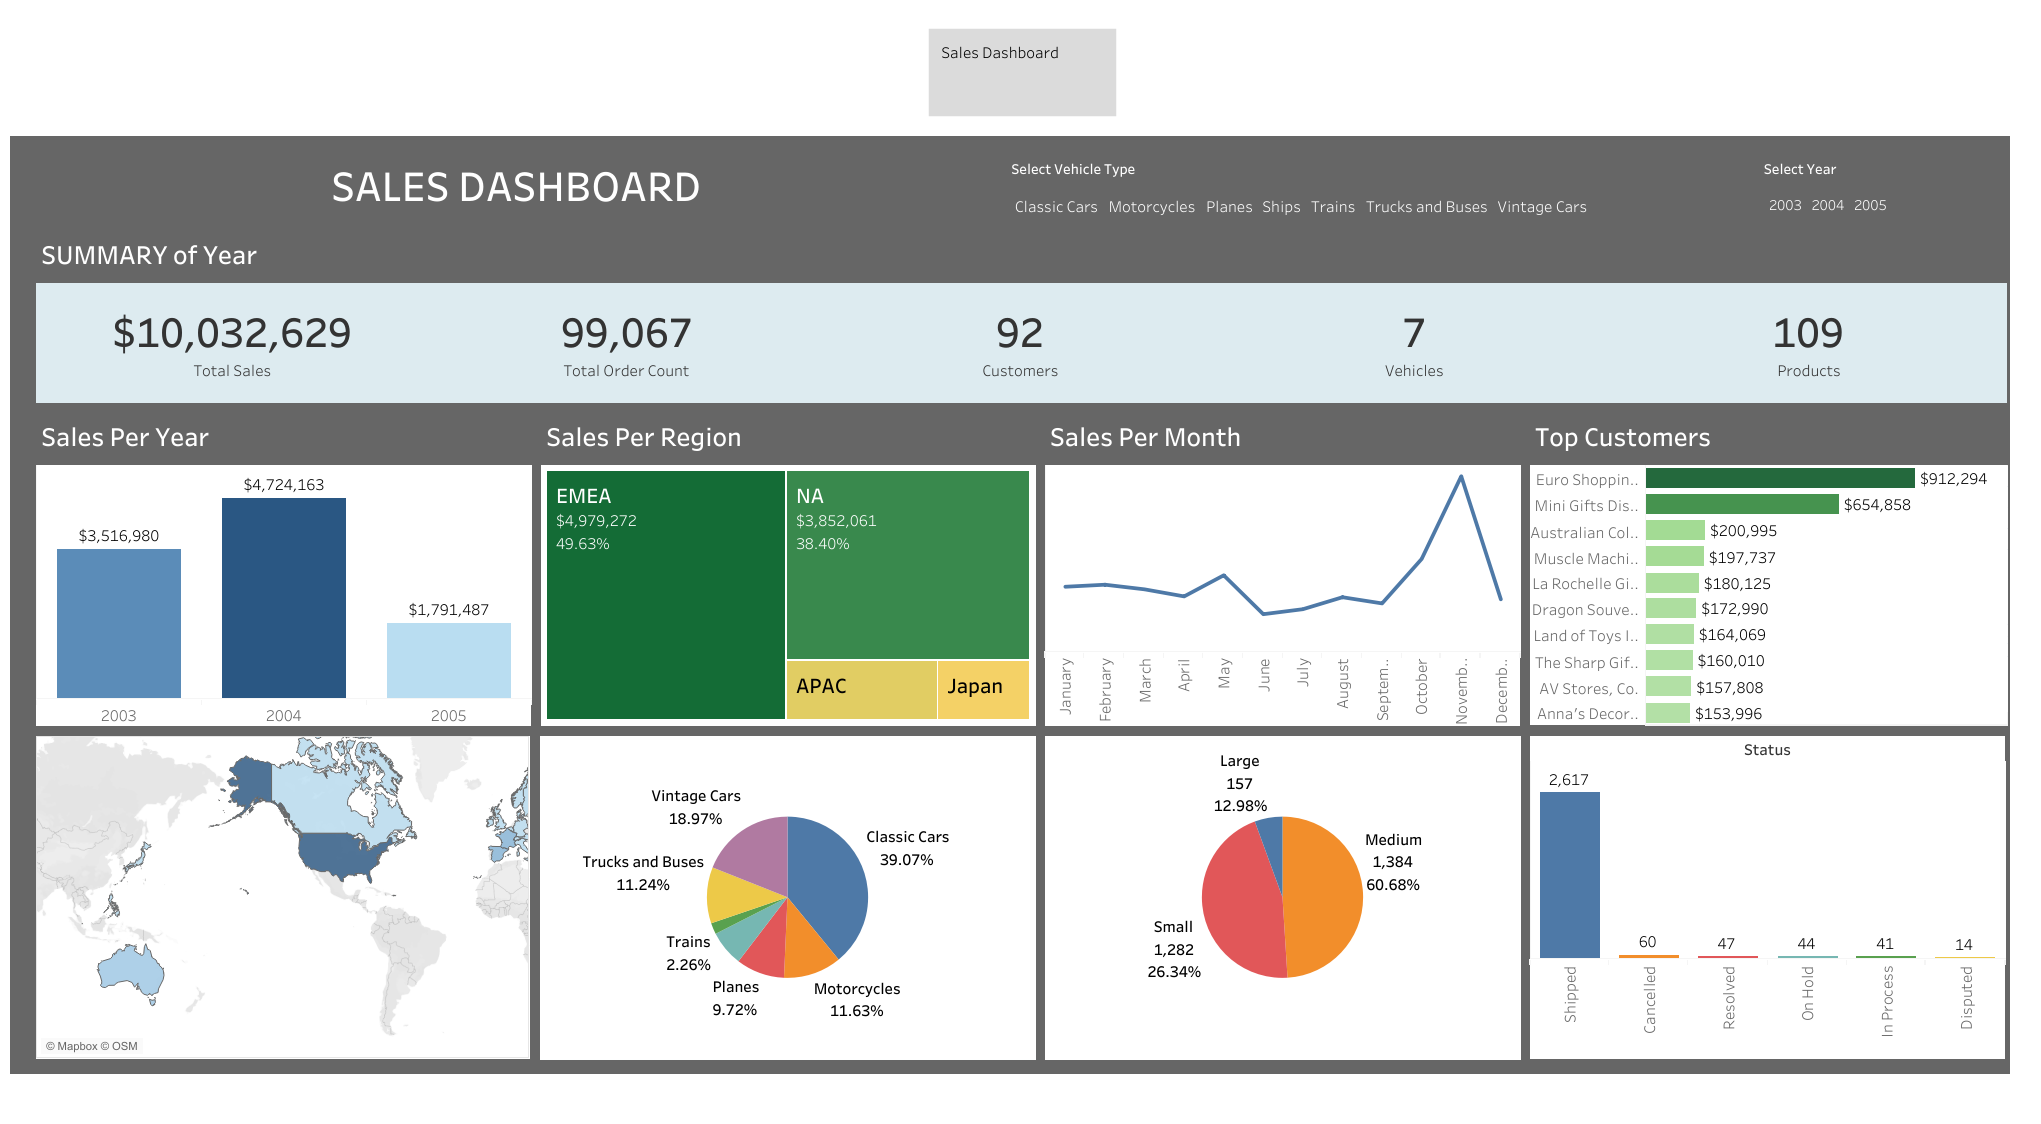

Layout of this report page (visuals, bound fields, positions):
{"tool":"tableau","page":{"name":"Dashboard 1","canvas":[1600,750],"ordinal":0},"visuals":[{"type":"text","box":[8,8,776,62.5]},{"type":"worksheet","title":"Vehicle Type","mark":"Automatic","box":[784,8,602,62.5]},{"type":"worksheet","title":"Year","mark":"Automatic","box":[1386,8,206,62.5]},{"type":"worksheet","title":"Sheet Banner","mark":"Automatic","box":[8,70.5,1584,145.5]},{"type":"worksheet","title":"Sales Per Year","mark":"Automatic","rows":["SALES"],"cols":["YEAR_ID"],"box":[8,216,404,260]},{"type":"worksheet","title":"Sales Per Region","mark":"Automatic","box":[412,216,403,260]},{"type":"worksheet","title":"Sales Per Month","mark":"Line","rows":["SALES"],"cols":["Calculation_1066508700223422467"],"box":[815,216,388.5,260]},{"type":"worksheet","title":"Top Customers","mark":"Automatic","rows":["CUSTOMERNAME"],"cols":["SALES"],"box":[1203.5,216,388.5,260]},{"type":"worksheet","title":"Sales Per Country","mark":"Multipolygon","box":[8,476,403.5,266]},{"type":"worksheet","title":"Sales By Category","mark":"Pie","box":[411.5,476,403.5,266]},{"type":"worksheet","title":"Sales By Deal Size","mark":"Pie","box":[815,476,388.5,266]},{"type":"worksheet","title":"Status Count","mark":"Automatic","rows":["STATUS"],"cols":["STATUS"],"box":[1203.5,476,388.5,266]}]}

Visuals, with their boxes in screenshot pixels (x1, y1, x2, y2):
text: <region>15, 132, 992, 211</region>
"Vehicle Type" worksheet: <region>992, 132, 1749, 211</region>
"Year" worksheet: <region>1749, 132, 2008, 211</region>
"Sheet Banner" worksheet: <region>15, 211, 2008, 394</region>
"Sales Per Year" worksheet: <region>15, 394, 524, 721</region>
"Sales Per Region" worksheet: <region>524, 394, 1031, 721</region>
"Sales Per Month" worksheet (Line marks): <region>1031, 394, 1519, 721</region>
"Top Customers" worksheet: <region>1519, 394, 2008, 721</region>
"Sales Per Country" worksheet (Multipolygon marks): <region>15, 721, 523, 1056</region>
"Sales By Category" worksheet (Pie marks): <region>523, 721, 1031, 1056</region>
"Sales By Deal Size" worksheet (Pie marks): <region>1031, 721, 1519, 1056</region>
"Status Count" worksheet: <region>1519, 721, 2008, 1056</region>
